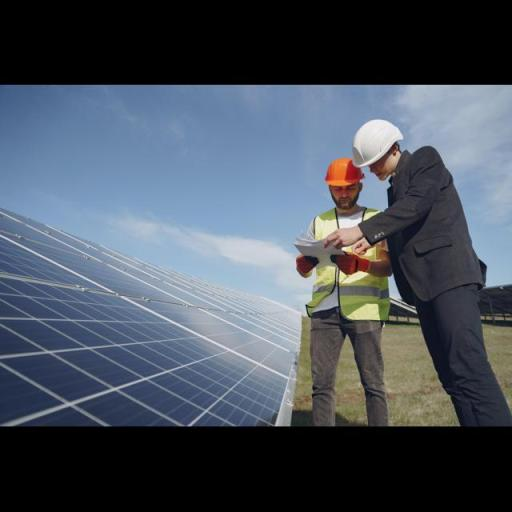Person: (297, 147, 413, 425)
helmet: (338, 114, 410, 162), (318, 154, 360, 188)
none: (378, 144, 494, 314)
vest: (306, 203, 389, 320)
